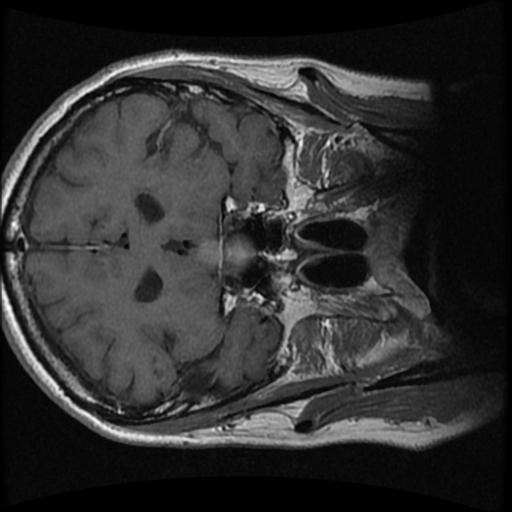pituitary tumour: (192, 233, 253, 275)
